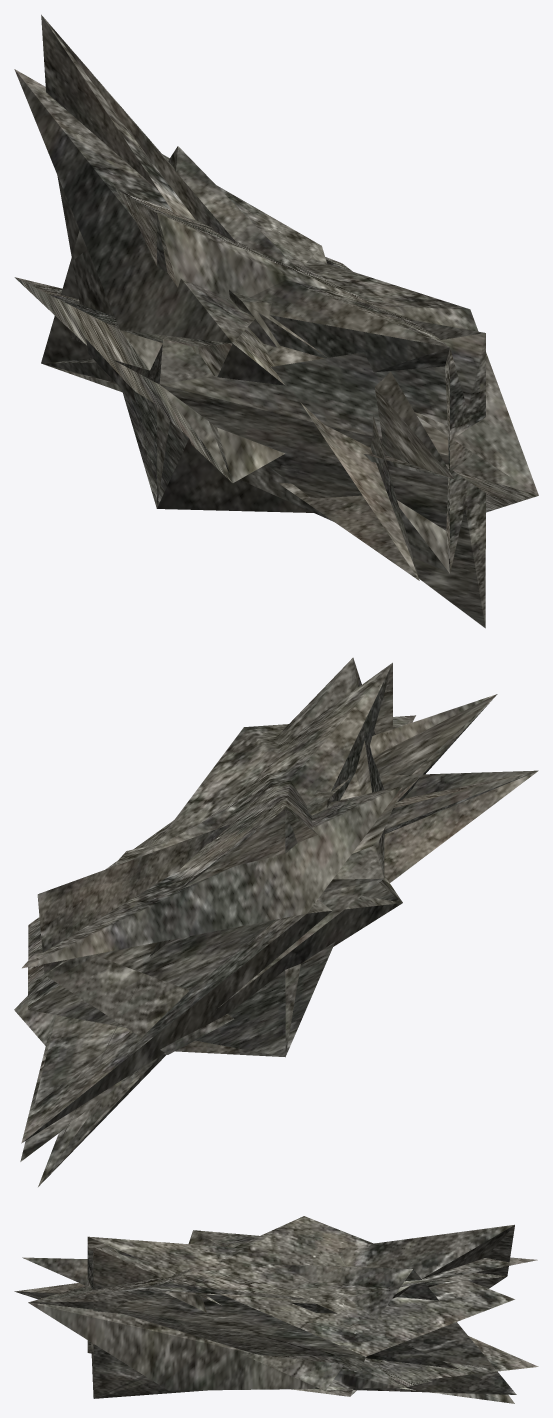
File: Meteo03.glb
The picture shows the model from 3 angles, top to bottom: view 1: azimuth 30°, elevation 25°; view 2: azimuth 150°, elevation 25°; view 3: azimuth 270°, elevation 25°; orthographic projection. The views are drawn at different scales.
Parts seen in each view (by area): view 1: model_Meteo03; view 2: model_Meteo03; view 3: model_Meteo03.
Part boxes in pixels (box(x1,y1,x2,y2)): model_Meteo03: box(14, 14, 538, 628); model_Meteo03: box(14, 657, 538, 1186); model_Meteo03: box(14, 1216, 538, 1403).
Size of the model in its own units: 0.7036 by 0.7739 by 2.05.
Materials: 1 (1 with a texture image).
